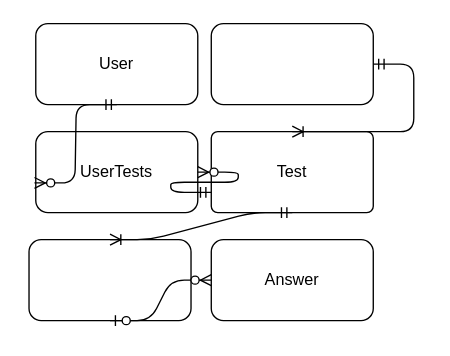
This 450x356 diagram has some shape labels left out. Each missing label, with the centre of its shape:
"Category" belongs at point 291,63.
"Question" belongs at point 109,279.
